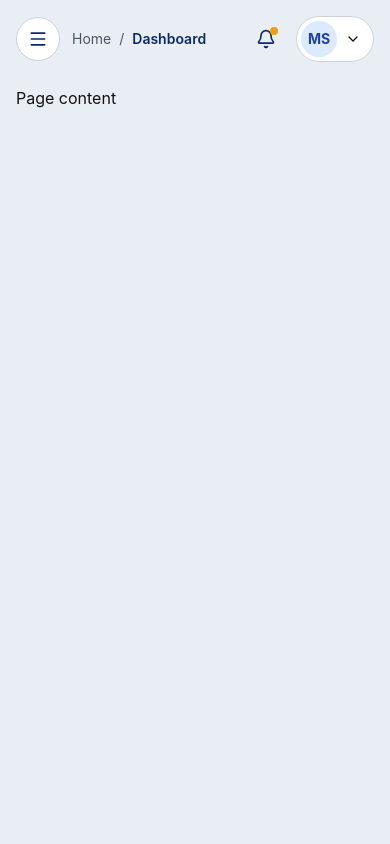
it: mobile drawer (unchanged) › opens from the hamburger and reports it
The image size is (390, 844).
Click the button named "Open menu" at (38, 39), box [16, 17, 60, 61]
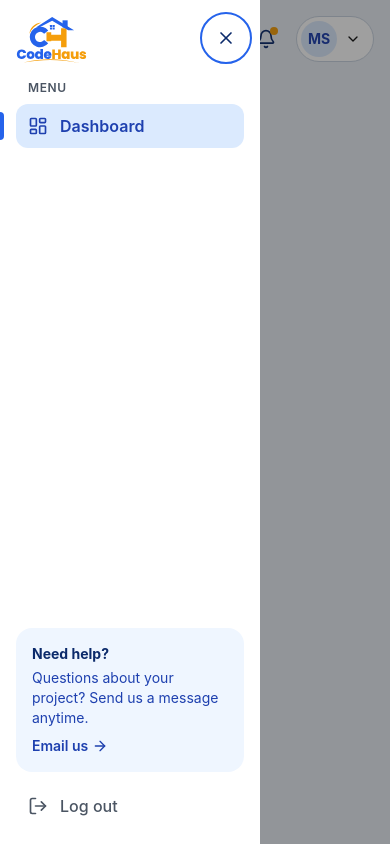
Now the button named "Open menu" next to "Home" is expanded, box [16, 17, 60, 61]
